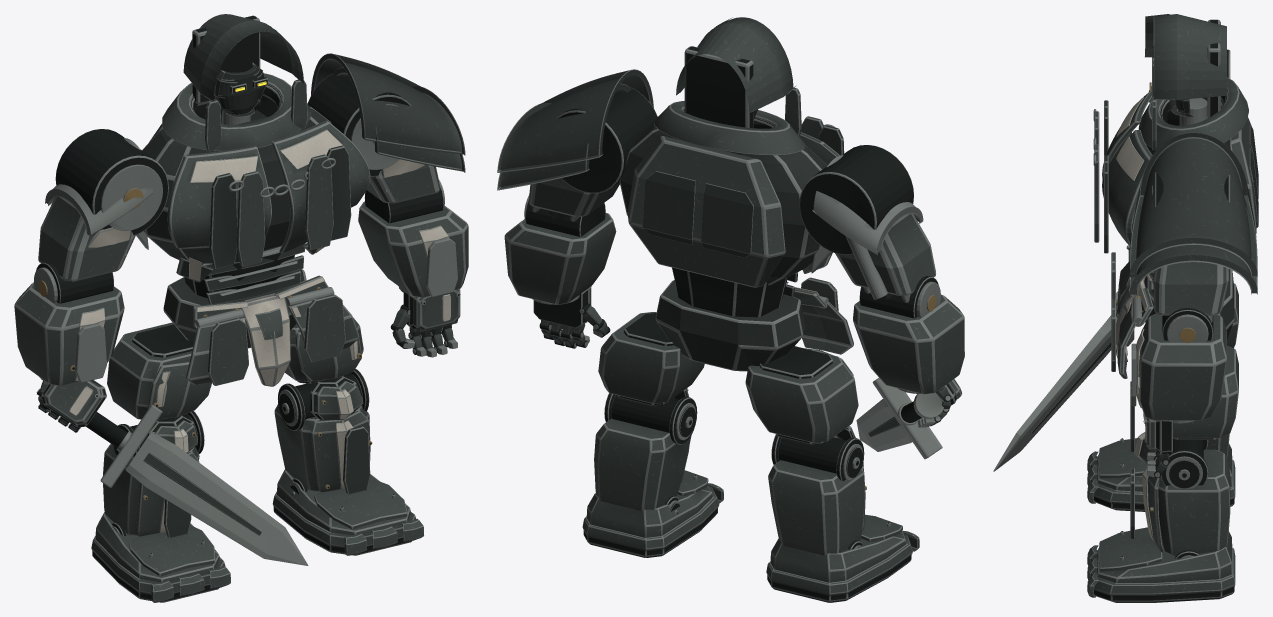
Rendered from tank-t3-revenant.glb.
The picture shows the model from 3 angles, left to right: view 1: azimuth 30°, elevation 25°; view 2: azimuth 150°, elevation 25°; view 3: azimuth 270°, elevation 25°; orthographic projection.
Visible parts, largest first — view 1: chest__clay, weaponR__metal, chest__metal, pauldronL__clay, ankleL__clay, shoulderR__metal, ankleR__clay, elbowR__clay, pelvis__metal, kneeL__clay, head__clay, elbowL__clay (+21 smaller); view 2: chest__clay, chest__metal, pelvis__metal, pauldronL__clay, elbowR__clay, shoulderR__metal, kneeR__clay, elbowL__clay, kneeL__clay, hipR__clay, ankleR__clay, ankleL__clay (+19 smaller); view 3: pauldronL__clay, chest__clay, elbowL__clay, ankleL__clay, kneeL__clay, head__clay, shoulderL__clay, weaponR__metal, ankleR__clay, kneeL__metal, hipL__clay, elbowL__metal (+12 smaller).
Boxes of the visible parts, x1,y1,x2,y2 form: chest__clay: (149, 73, 370, 282); weaponR__metal: (86, 404, 308, 565); chest__metal: (136, 84, 351, 268); pauldronL__clay: (311, 53, 465, 172); ankleL__clay: (272, 469, 423, 555); shoulderR__metal: (55, 129, 168, 280); ankleR__clay: (91, 512, 230, 602); elbowR__clay: (14, 282, 124, 385); pelvis__metal: (163, 243, 334, 348); kneeL__clay: (274, 381, 370, 492); head__clay: (183, 14, 307, 151); elbowL__clay: (358, 201, 468, 297); chest__clay: (627, 101, 839, 287); chest__metal: (619, 109, 844, 285); pelvis__metal: (655, 267, 828, 371); pauldronL__clay: (497, 69, 653, 190); elbowR__clay: (853, 294, 964, 394); shoulderR__metal: (799, 145, 913, 302); kneeR__clay: (768, 425, 865, 555); elbowL__clay: (504, 213, 616, 304); kneeL__clay: (594, 388, 691, 510); hipR__clay: (745, 346, 858, 442); ankleR__clay: (766, 514, 919, 596); ankleL__clay: (582, 470, 723, 551); pauldronL__clay: (1129, 132, 1257, 294); chest__clay: (1094, 77, 1256, 280); elbowL__clay: (1135, 313, 1226, 420); ankleL__clay: (1087, 527, 1235, 597); kneeL__clay: (1133, 432, 1230, 556); head__clay: (1145, 14, 1226, 150); shoulderL__clay: (1153, 262, 1228, 315); weaponR__metal: (993, 277, 1146, 471); ankleR__clay: (1087, 438, 1235, 505); kneeL__metal: (1130, 438, 1208, 538); hipL__clay: (1173, 345, 1238, 438); elbowL__metal: (1131, 308, 1213, 406).
Bounding box in the file's own units: 3.6 × 4.24 × 1.96.
Materials: 11 (10 with a texture image).
